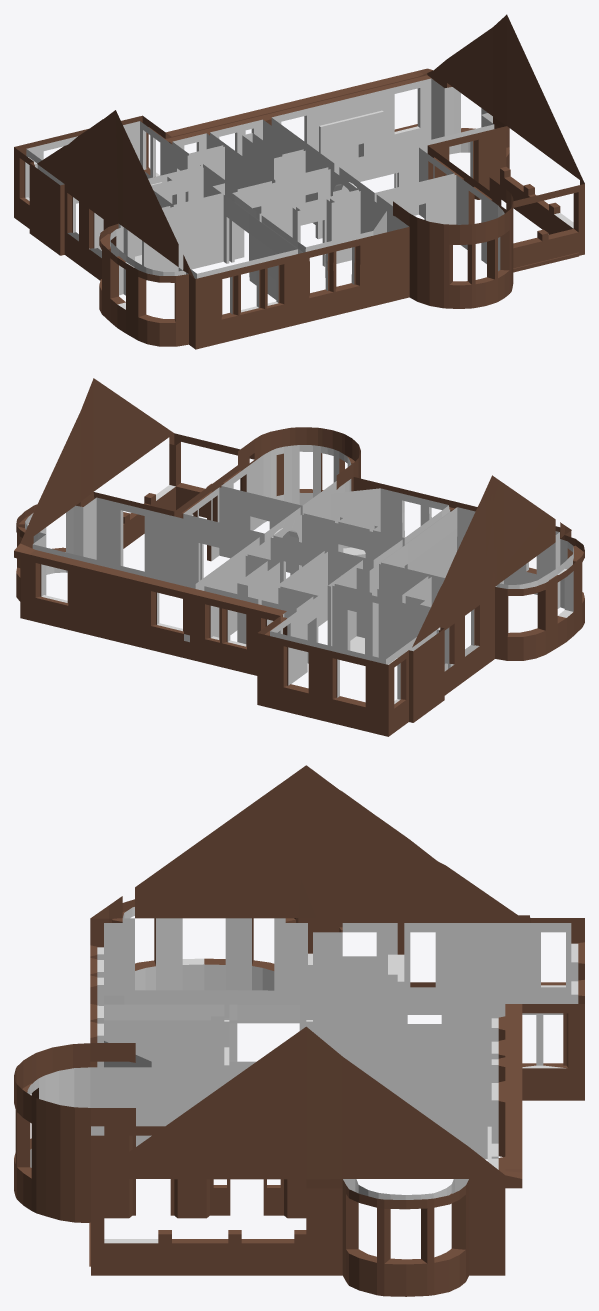
Rendered from Manor_Structure_F1_collider.fbx.
3 renders of one model, top to bottom at view 1: azimuth 30°, elevation 25°; view 2: azimuth 150°, elevation 25°; view 3: azimuth 270°, elevation 25°, orthographic. The views are drawn at different scales.
Visible parts, largest first — view 1: Walls_F1_collider; view 2: Walls_F1_collider; view 3: Walls_F1_collider.
Part boxes in pixels (x1,y1,x2,y2): Walls_F1_collider: [14, 14, 584, 349]; Walls_F1_collider: [14, 378, 584, 736]; Walls_F1_collider: [14, 765, 584, 1296].
Bounding box in the file's own units: 21.41 × 8.3 × 16.89.
